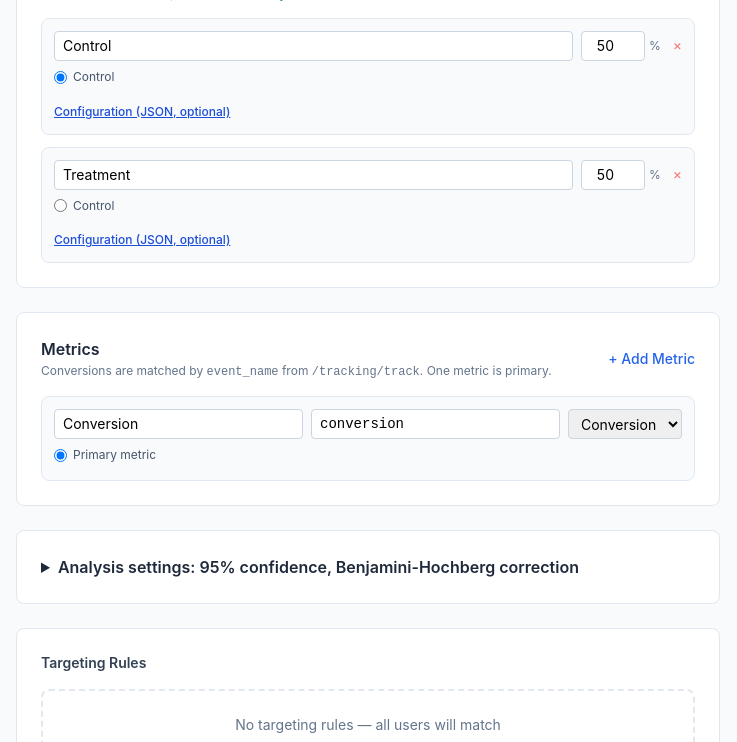
Test case: NewExperimentPage › removing the primary metric promotes the next one
(page scrolled)
What coordinates should you click on to do the following:
click the button with test id "add-metric"
I would click on:
 (652, 358)
Its box is [608, 348, 695, 368].
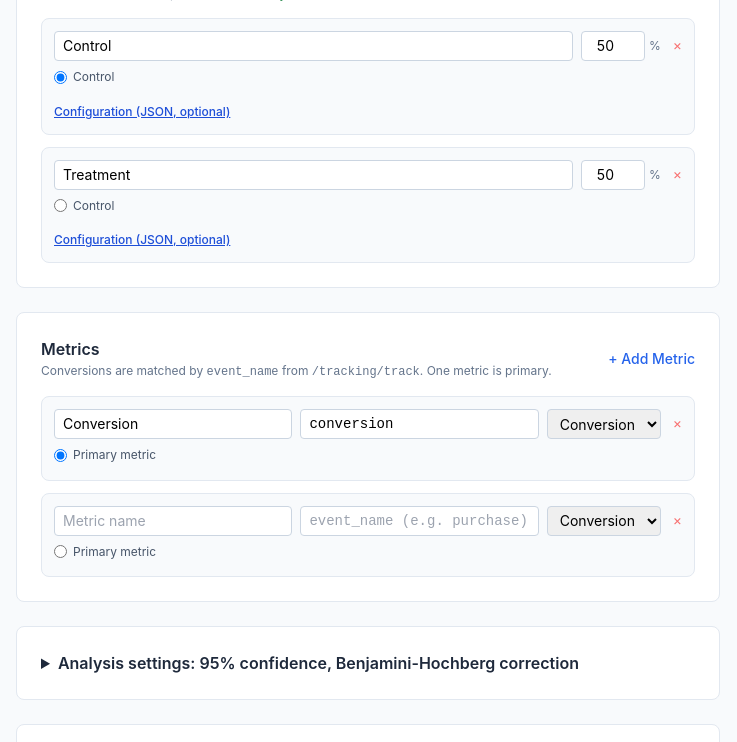
What coordinates should you click on to do the following:
click the button with test id "remove-metric-0"
I would click on:
 (677, 423)
Its box is [673, 413, 682, 433].
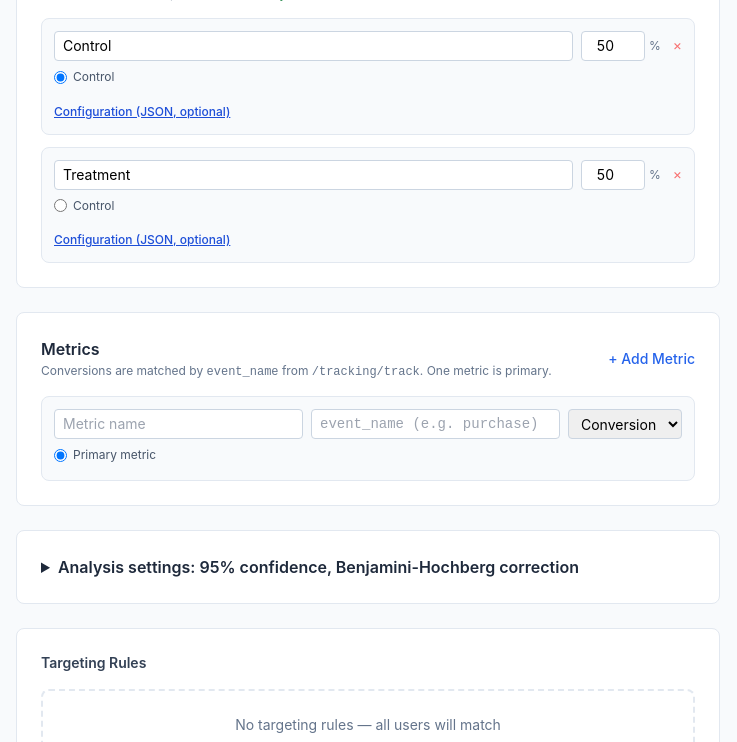
Expected: the radio button with test id "metric-primary-0" is checked, [54, 448, 67, 462]
Expected: the button with test id "remove-metric-0" is gone
